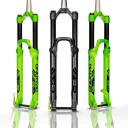Fork: (14, 9, 51, 118)
